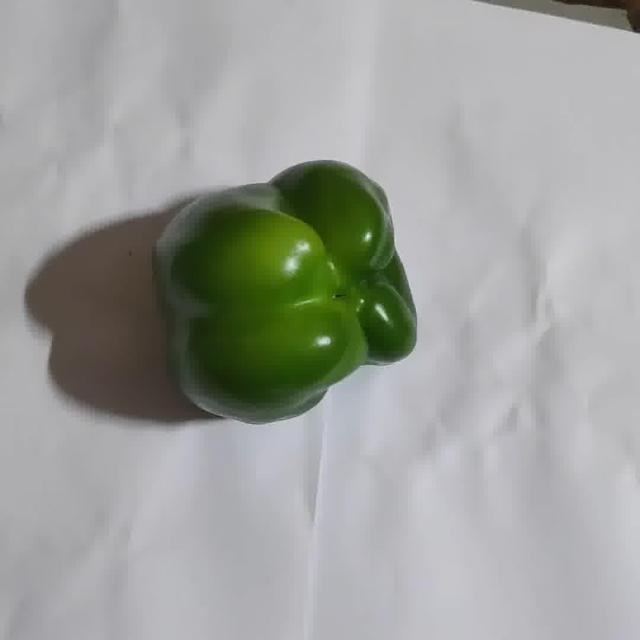Bell Pepper: (152, 159, 416, 424)
